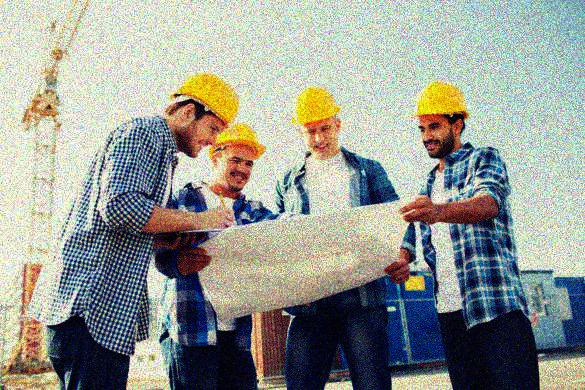helmet: (162, 71, 239, 159), (407, 78, 470, 157), (287, 84, 344, 162), (209, 122, 268, 192)
